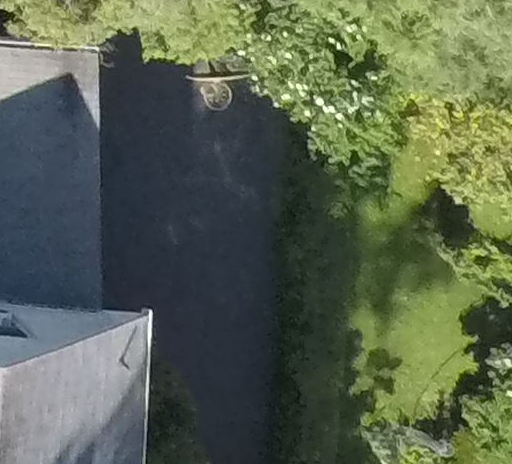basketball: (166, 52, 280, 122)
